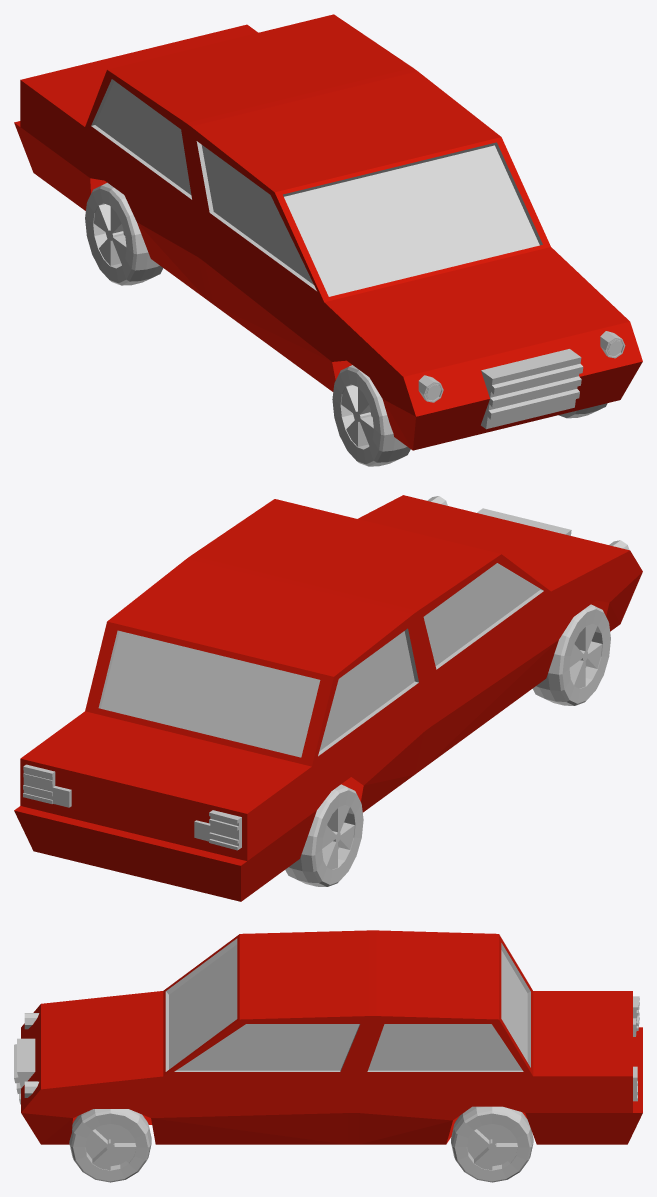
The model's file is car01.dae.
3 views of the same model, one above another, from view 1: azimuth 30°, elevation 25°; view 2: azimuth 150°, elevation 25°; view 3: azimuth 270°, elevation 25° (orthographic). The views are drawn at different scales.
Visible parts, largest first — view 1: Cube, Cube_001, Cylinder_005, Cylinder_004; view 2: Cube, Cylinder_004, Cylinder_005, Cube_002, Cube_001; view 3: Cube, Cylinder_003, Cylinder_002, Cube_001, Cube_002.
Part boxes in pixels (x1,y1,x2,y2): Cube: [14, 14, 642, 450]; Cube_001: [481, 349, 583, 429]; Cylinder_005: [85, 182, 163, 285]; Cylinder_004: [332, 365, 410, 466]; Cube: [14, 495, 642, 901]; Cylinder_004: [532, 604, 610, 705]; Cylinder_005: [285, 784, 363, 886]; Cube_002: [23, 764, 241, 850]; Cube_001: [477, 508, 573, 536]; Cube: [21, 930, 642, 1144]; Cylinder_003: [451, 1106, 533, 1182]; Cylinder_002: [69, 1109, 151, 1182]; Cube_001: [14, 1038, 35, 1104]; Cube_002: [633, 996, 639, 1101].
Size of the model in its own units: 5.26 by 15.88 by 4.65.
